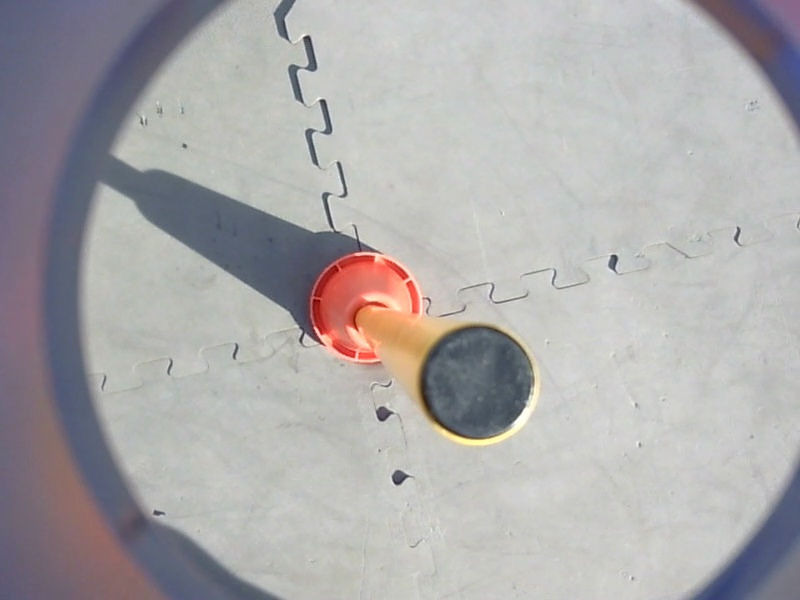tip: (407, 317, 543, 452)
